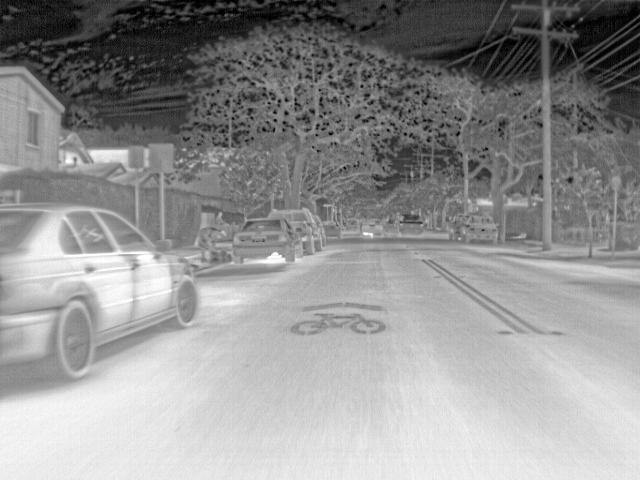car: (1, 203, 202, 386), (230, 216, 304, 265), (266, 206, 319, 256), (462, 211, 500, 247), (397, 212, 428, 235), (445, 212, 462, 241), (313, 214, 327, 246), (363, 218, 383, 236), (323, 221, 341, 238), (341, 214, 360, 230)
person: (201, 225, 229, 263)
